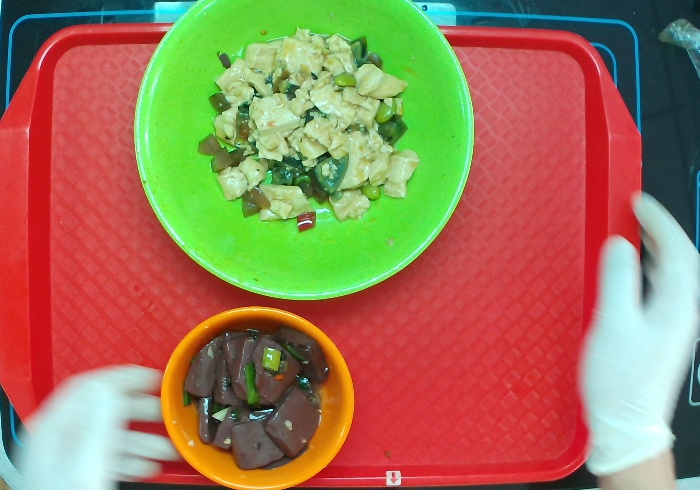YKMZ-Ju_Se_Yuan_Wan: (152, 304, 359, 488)
YKMZ-Lv_Se_Tang_Wan: (128, 1, 482, 303)
